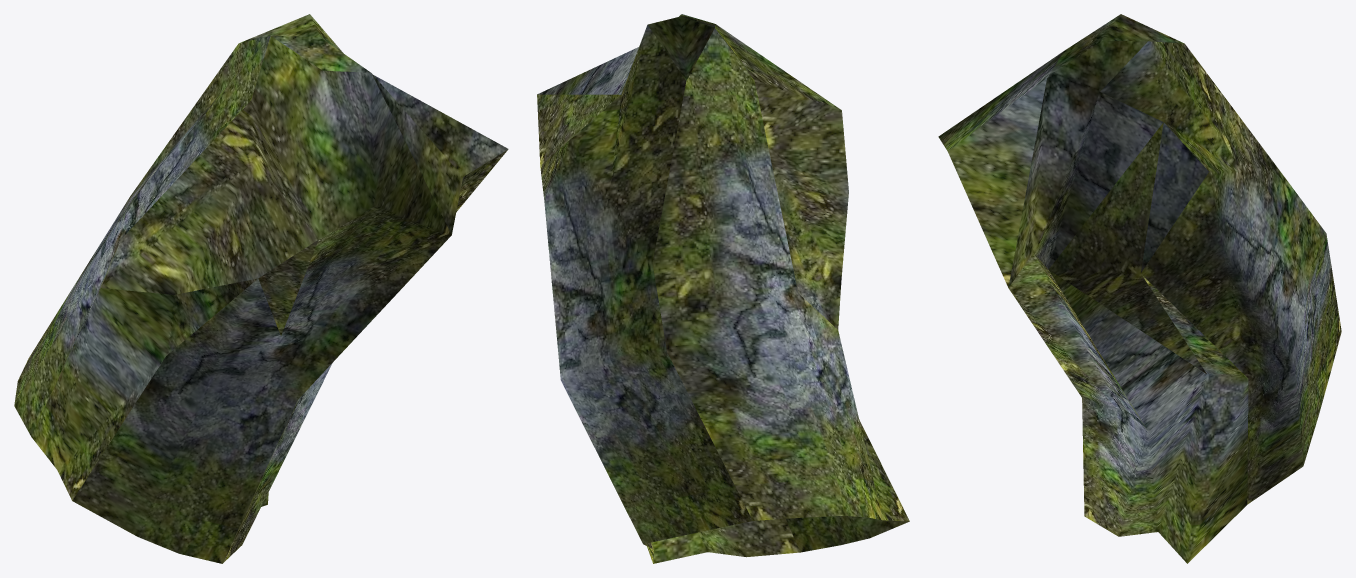
The picture shows the model from 3 angles, left to right: view 1: azimuth 30°, elevation 25°; view 2: azimuth 150°, elevation 25°; view 3: azimuth 270°, elevation 25°; orthographic projection. The views are drawn at different scales.
Parts seen in each view (by area): view 1: Box306; view 2: Box306; view 3: Box306.
Part boxes in pixels (x1,y1,x2,y2): Box306: [14, 14, 508, 563]; Box306: [537, 14, 909, 563]; Box306: [938, 14, 1341, 563].
Size of the model in its own units: 52.74 by 63.61 by 43.21.
